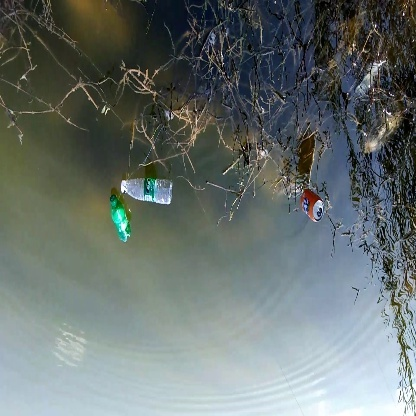bottle: (108, 194, 138, 257), (120, 175, 175, 208), (294, 186, 326, 227)
